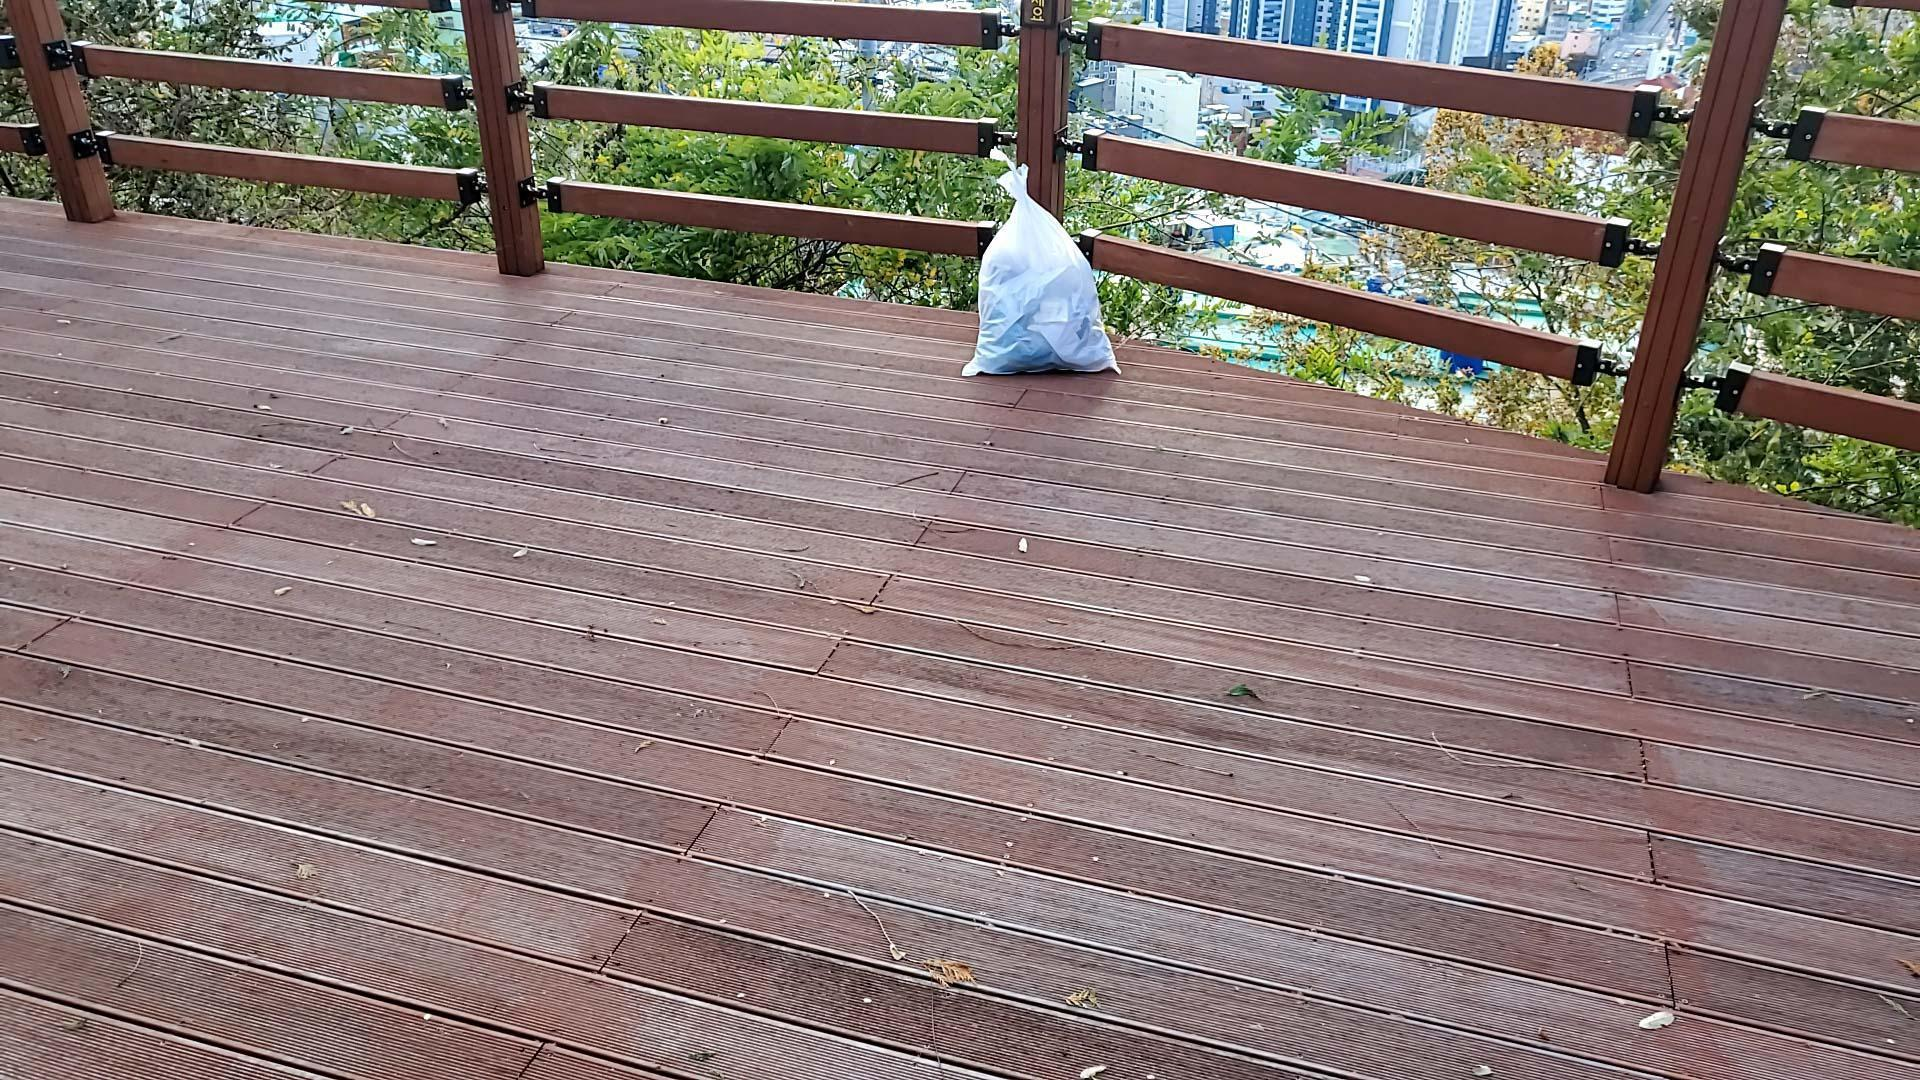white_bag: (944, 135, 1135, 389)
